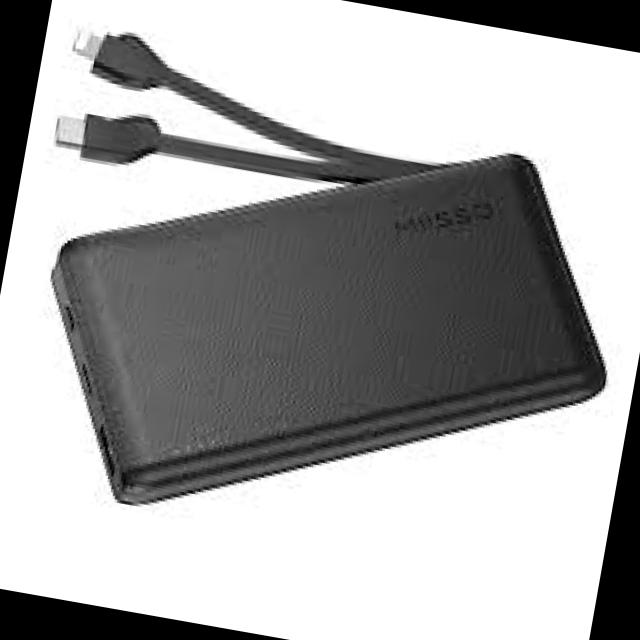portable-charger: (7, 71, 640, 601)
